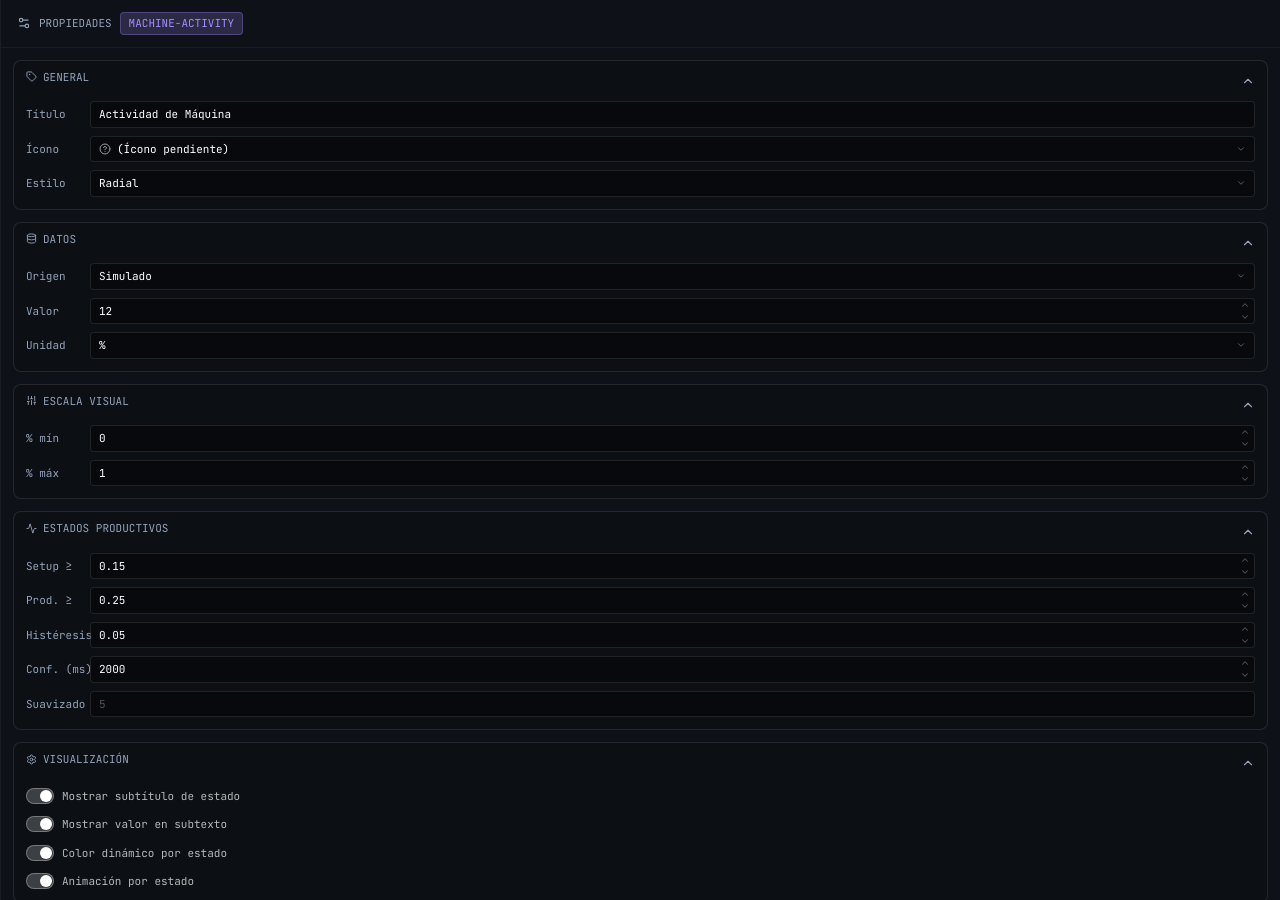
Test: PropertyDock machine-activity › updates the simulated machine-activity unit atomically without reverting to the previous value
Click the button "%": (102, 345) [90, 332, 1255, 358]
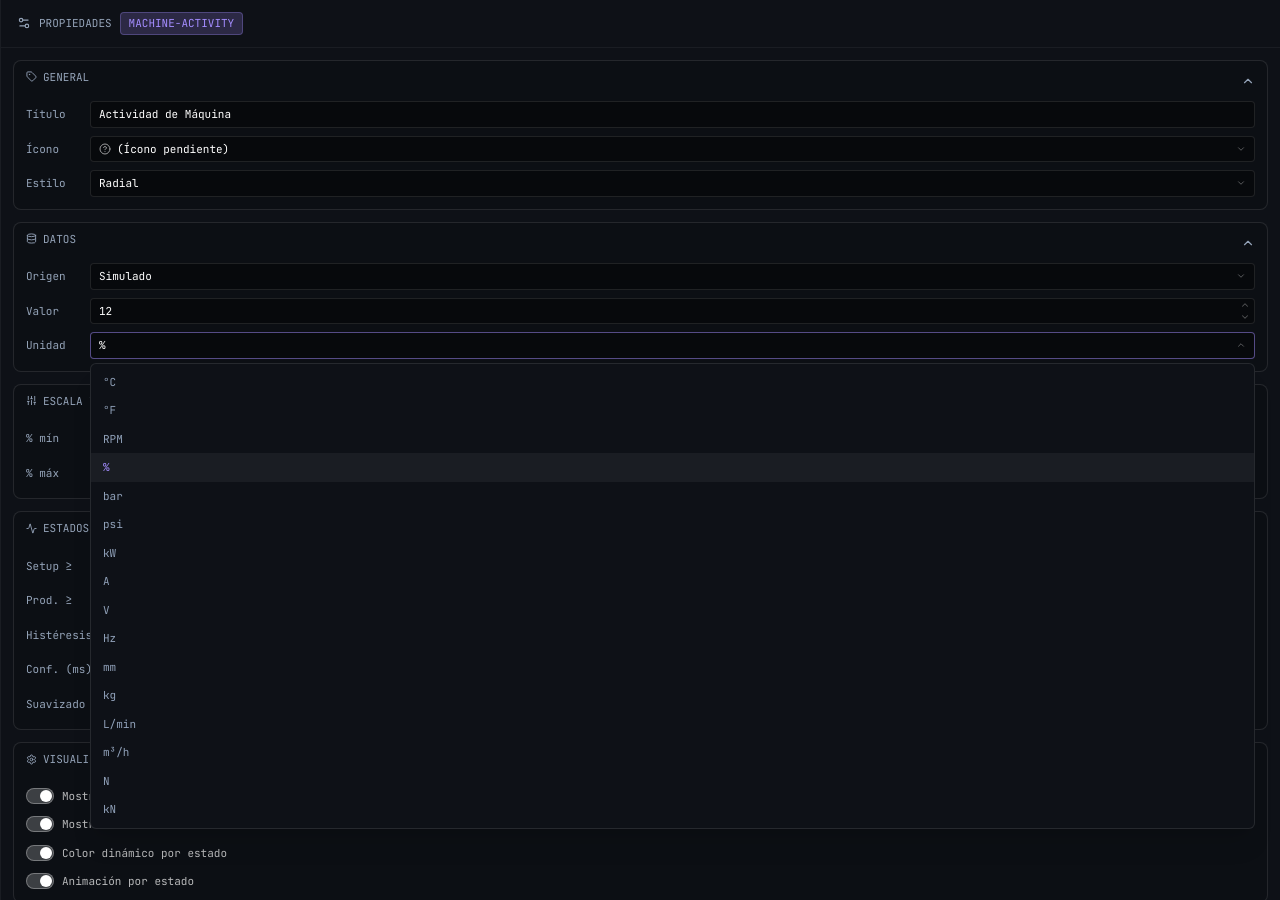
Click the button "RPM": (113, 438) [91, 424, 1254, 453]
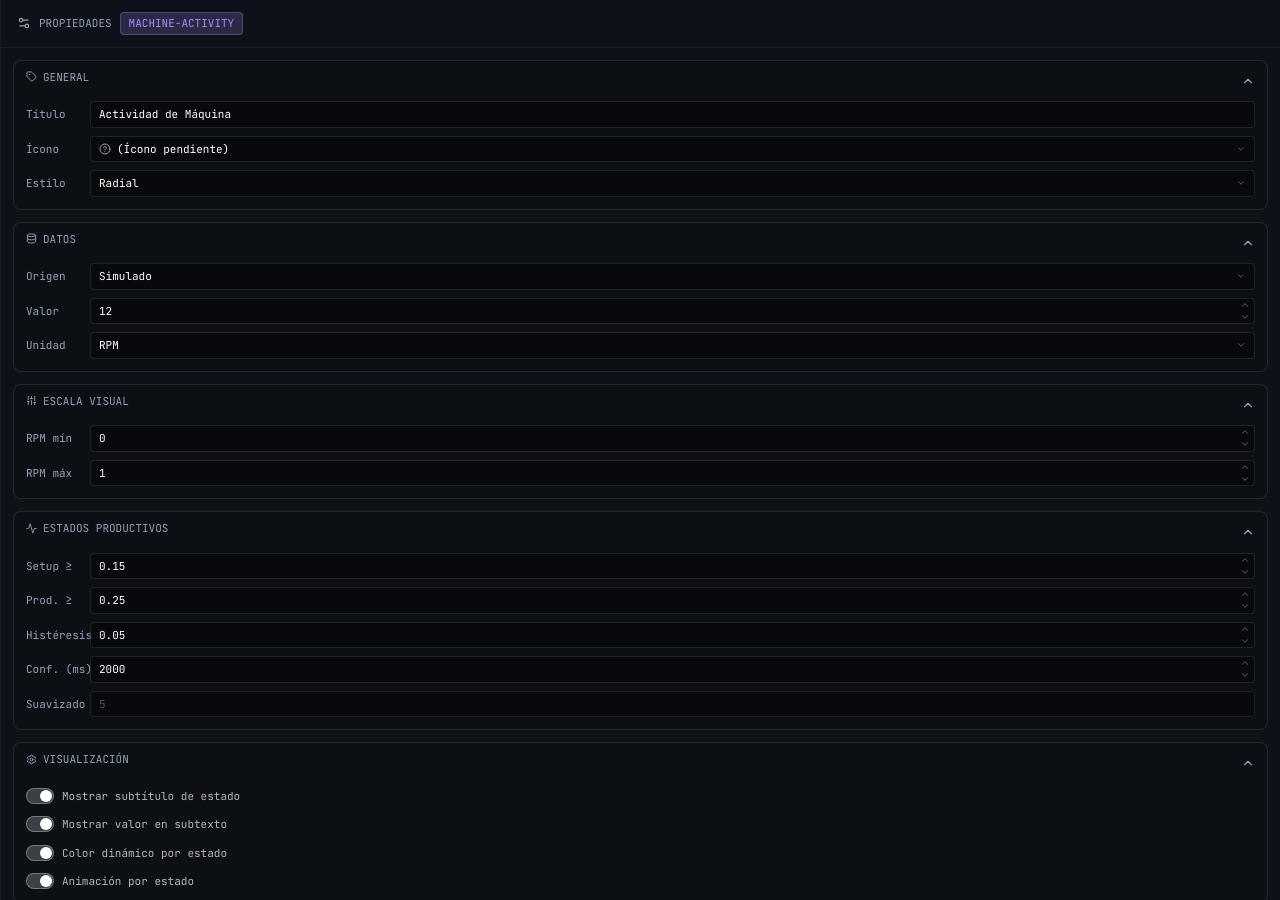
Expected: the button "RPM" is shown, [90, 332, 1255, 358]
Expected: the text "RPM mín" is shown, [26, 431, 72, 445]
Expected: the text "RPM máx" is shown, [26, 466, 72, 480]
